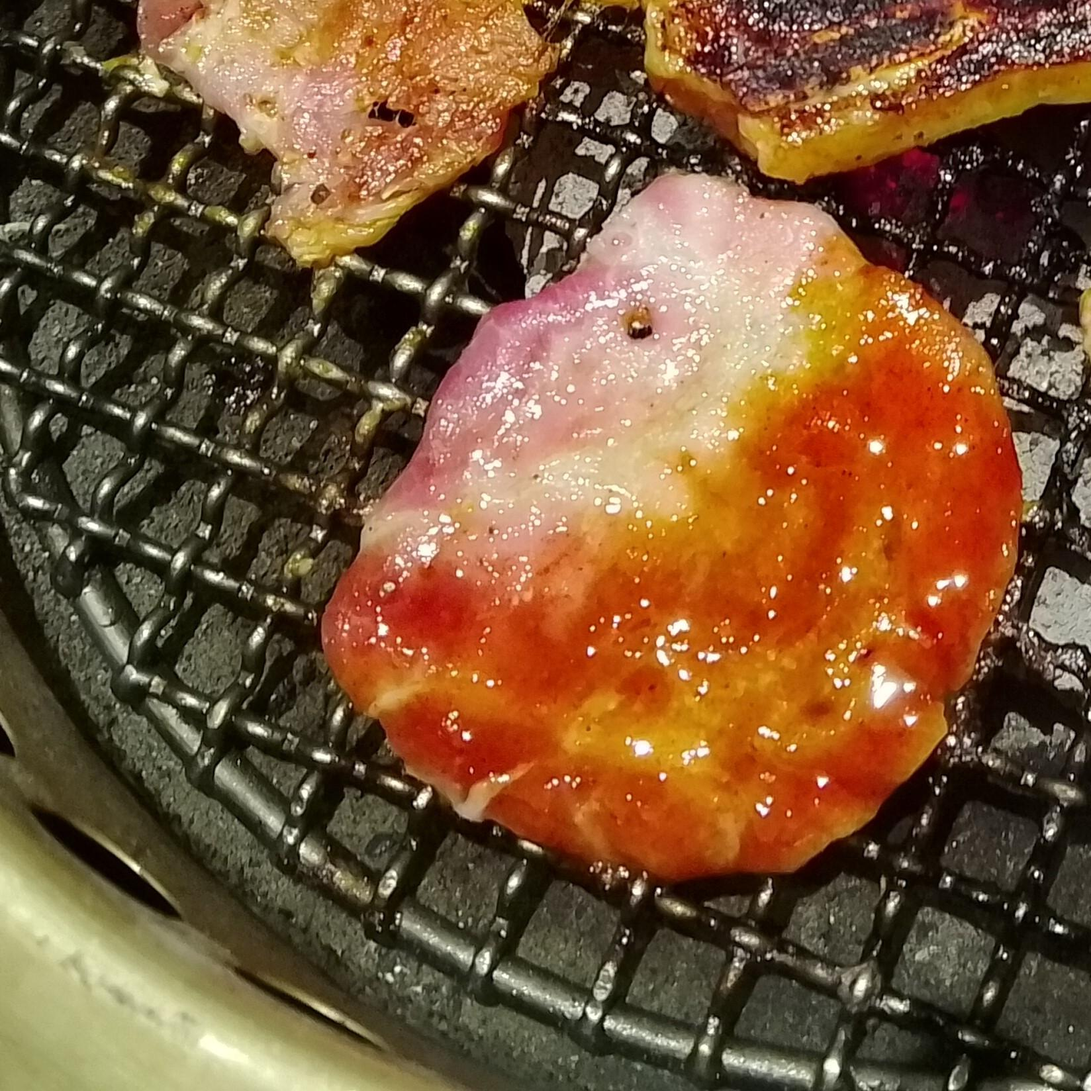Undercooked: (322, 173, 1021, 879)
